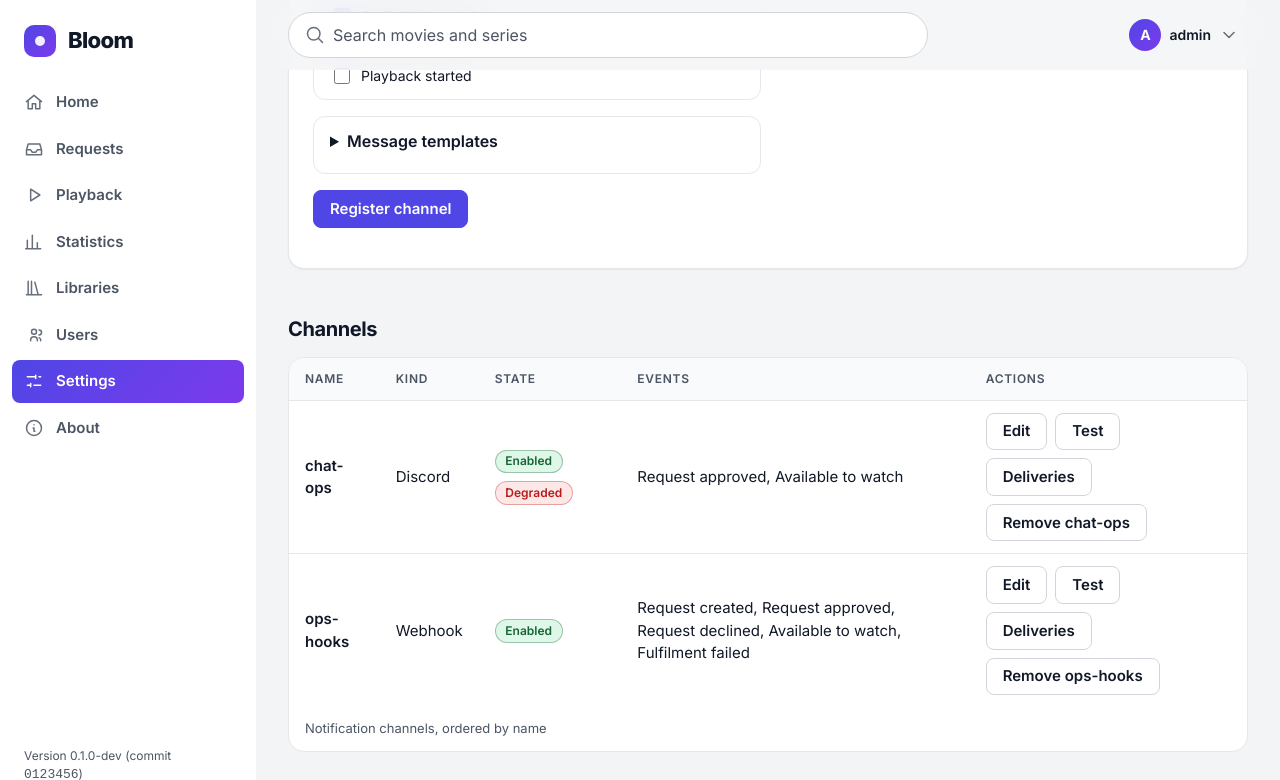
edits a channel without resending its stored secrets
The image size is (1280, 780).
(page scrolled)
Click the button named "Edit ops-hooks": (1017,585) top-left (986, 566), bottom-right (1047, 604)
(page scrolled)
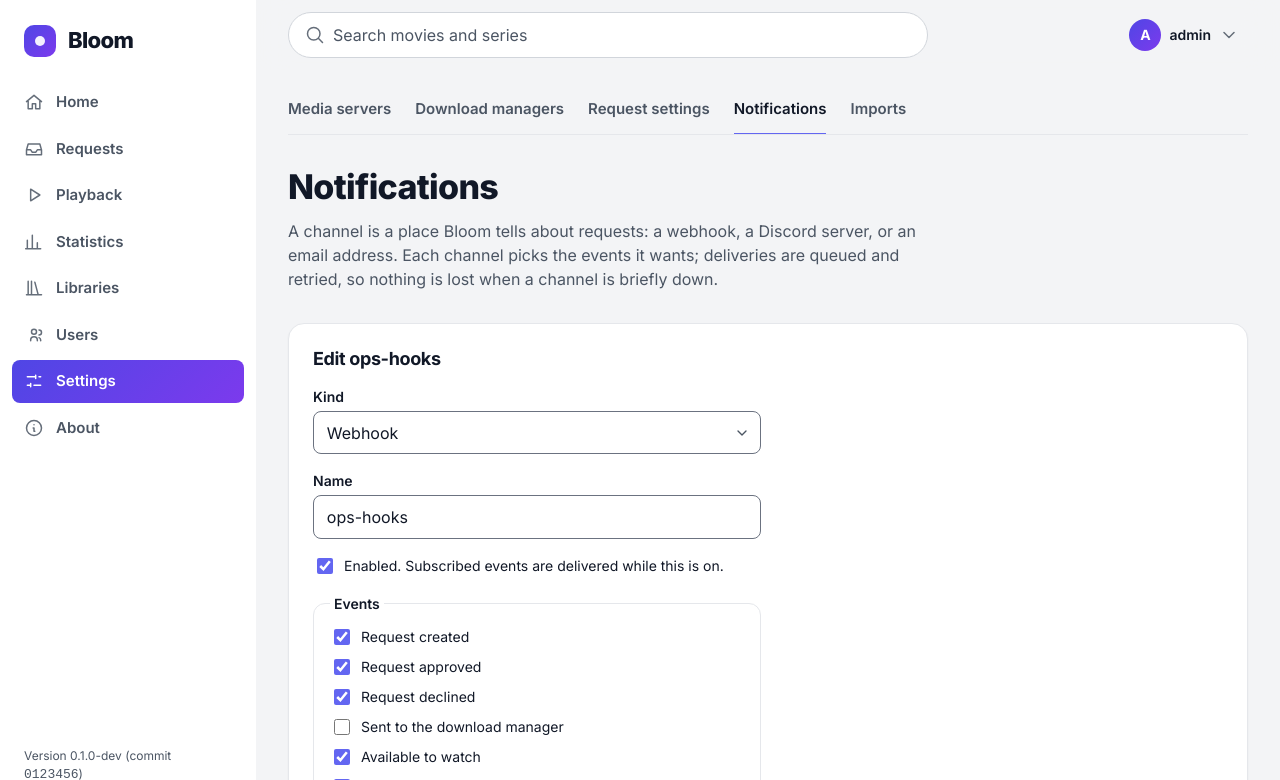
Expected: the dropdown labelled "Kind" shows "Webhook", top-left (313, 411), bottom-right (761, 454)
Replace the text in the field labelled "Name" with "ops-hooks-2": (537,517) top-left (313, 496), bottom-right (761, 539)
(page scrolled)
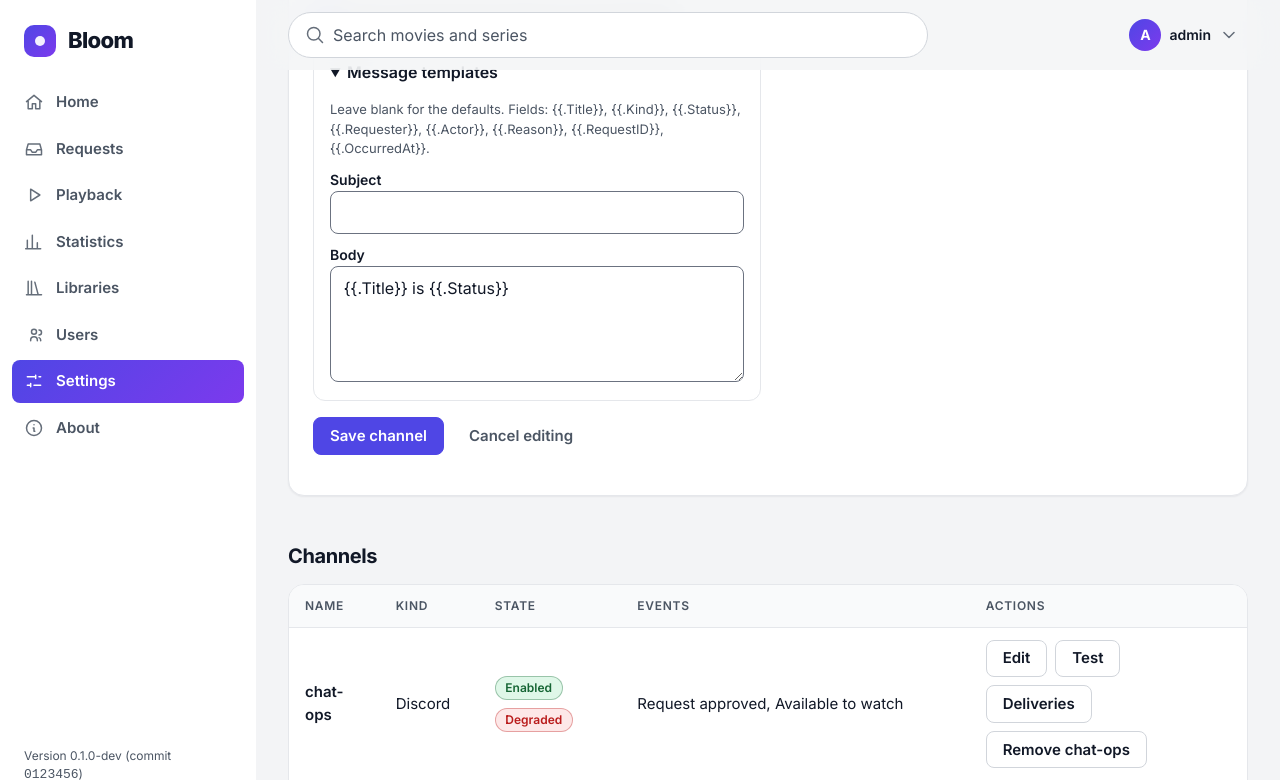
Click the button "Save channel": (378,436) top-left (313, 417), bottom-right (444, 455)
(page scrolled)
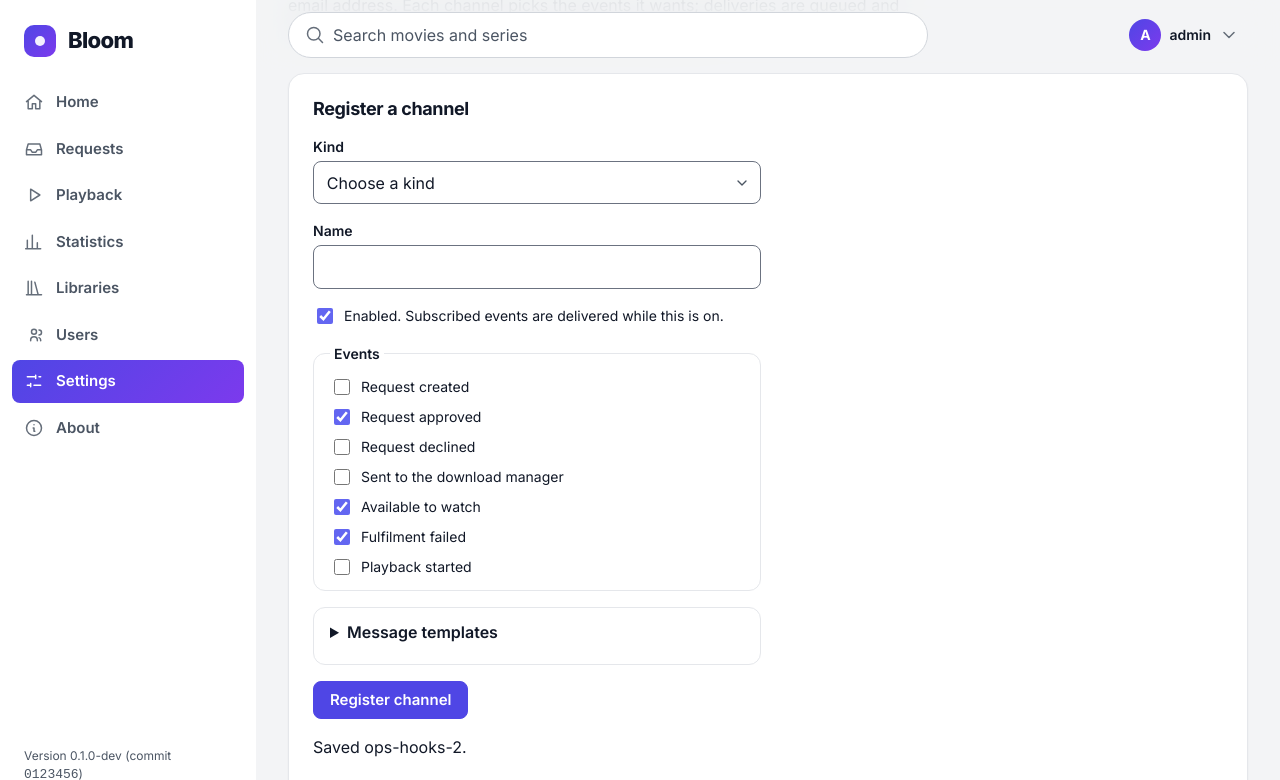
Expected: the text "Saved ops-hooks-2." is shown, top-left (313, 737), bottom-right (467, 757)
Expected: the form named "Register a channel" is shown, top-left (313, 136), bottom-right (761, 735)
